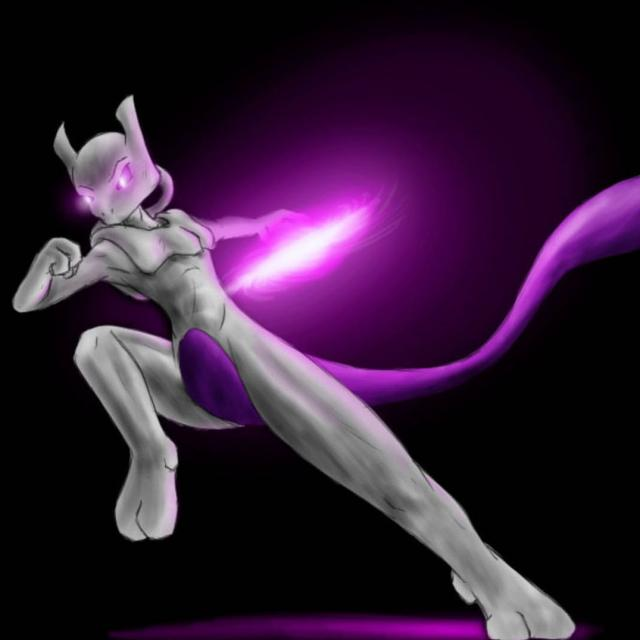Mewtwo: (14, 89, 335, 549)
